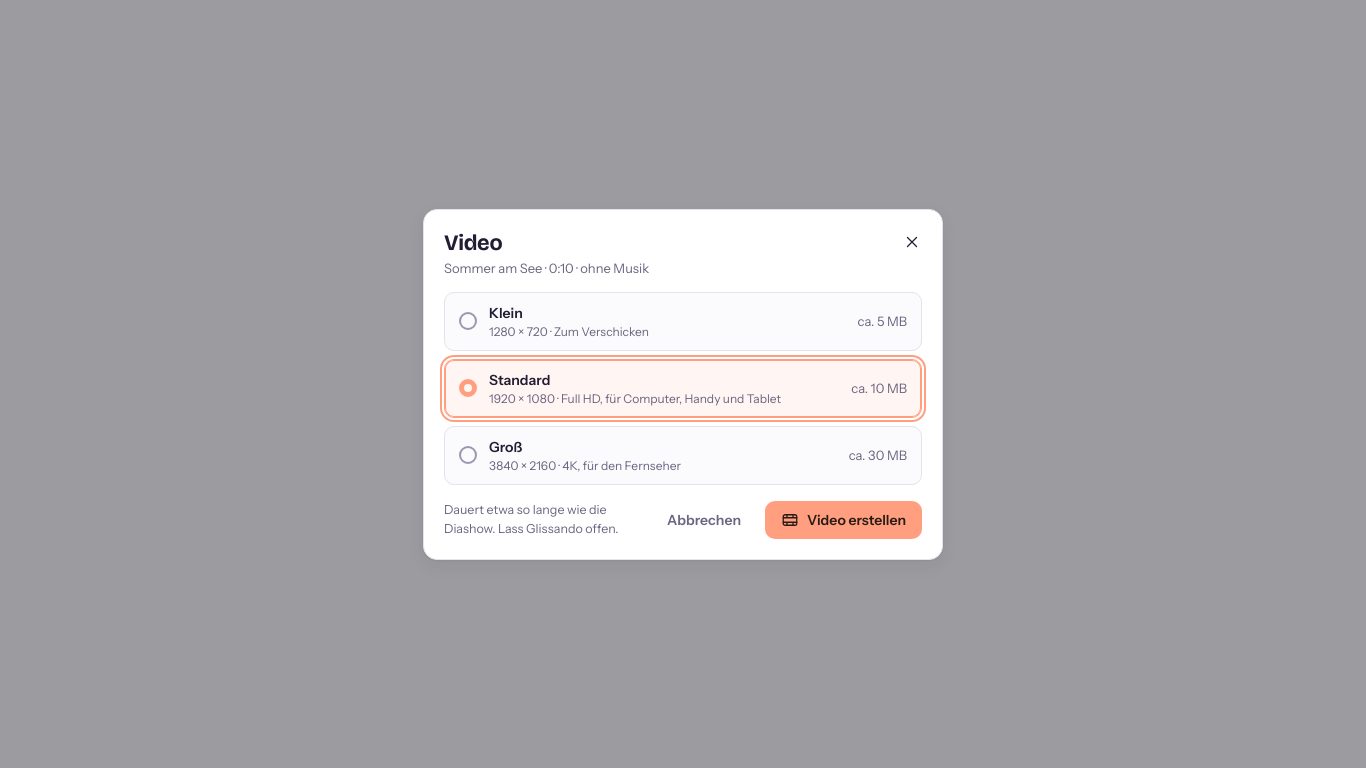
Scenario: the video sheet after a failure › says it in a sentence, keeps the raw error behind Show details, and Try again offers the sizes
Click the button "Video erstellen" at (844, 520), box [765, 500, 922, 538]
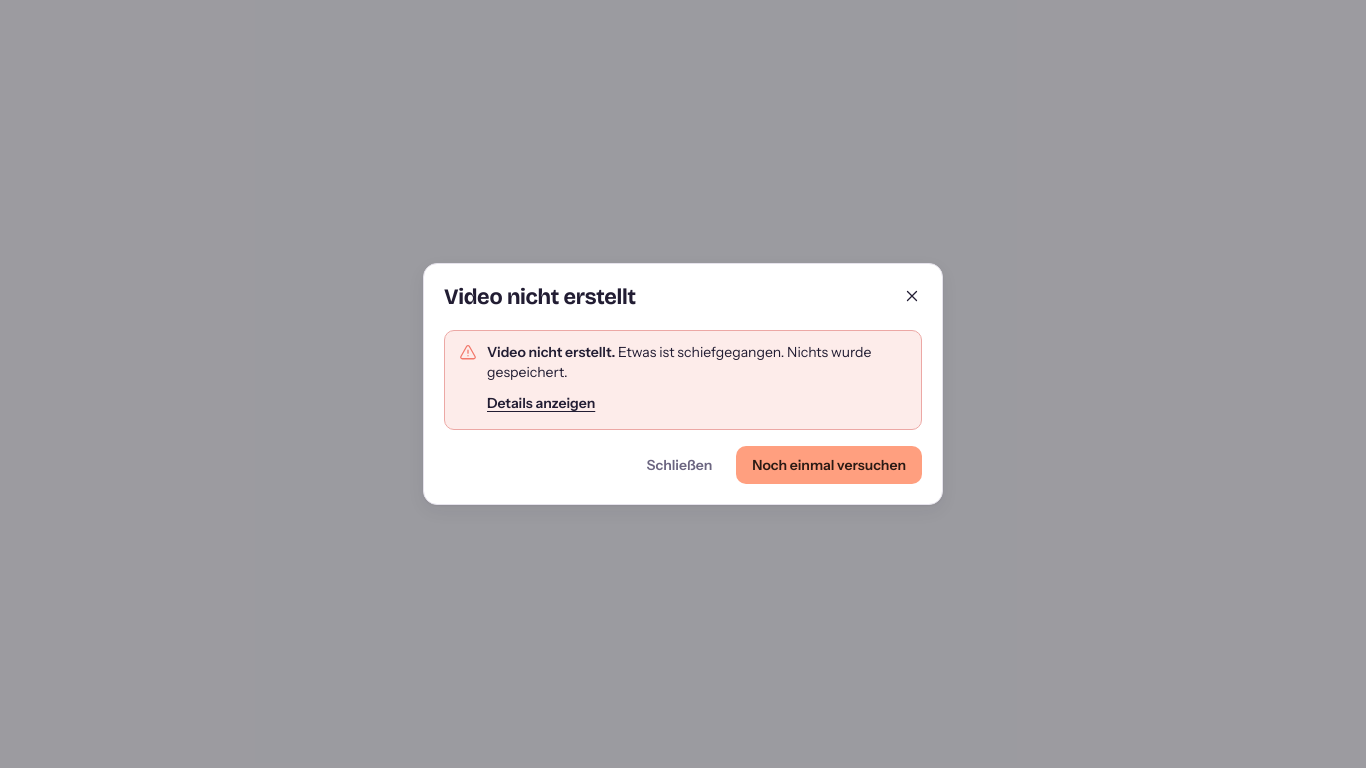
Expected: the text "encoder broke: code 0x80004005" is not shown
Expected: the text "Video nicht erstellt." is shown, [487, 343, 615, 361]
Click the button "Details anzeigen" at (541, 403), box [487, 388, 595, 418]
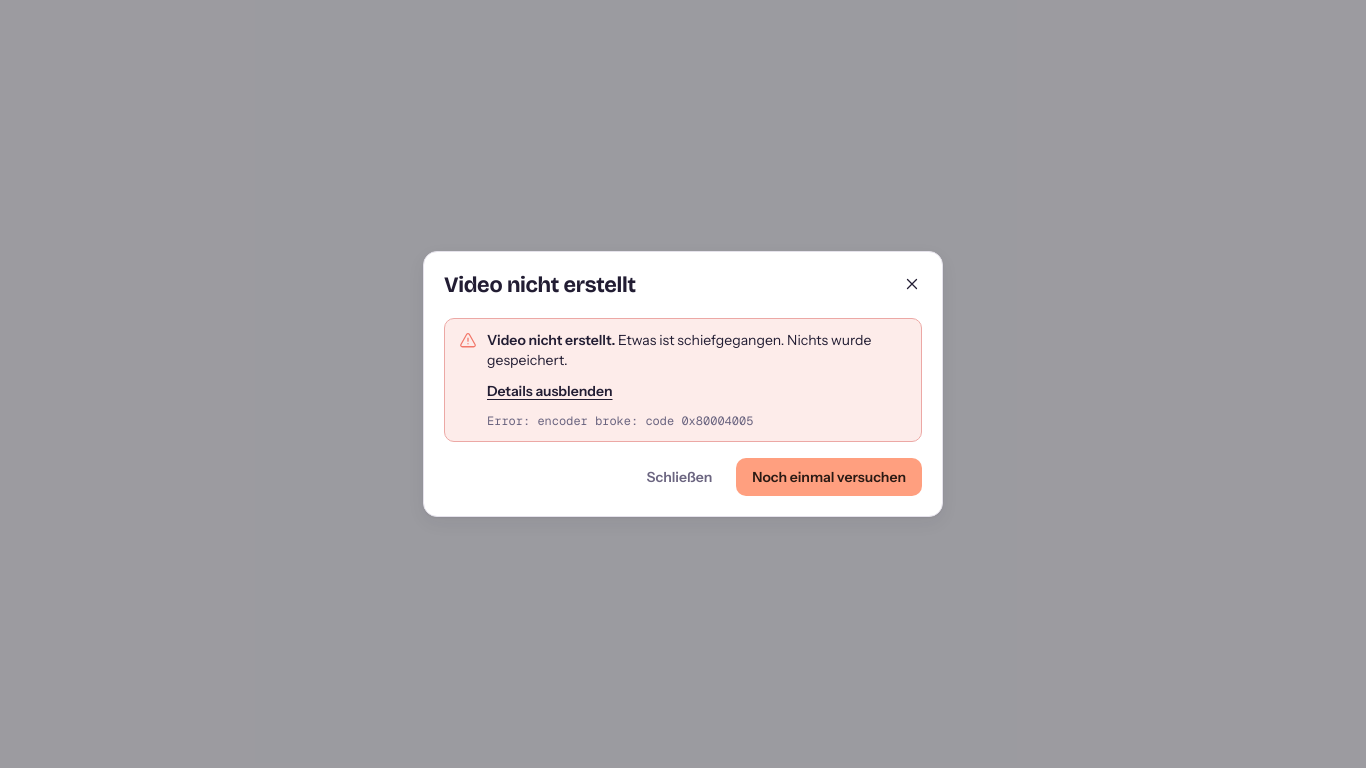
Expected: the button "Details ausblenden" is shown, [487, 377, 612, 407]
Click the button "Noch einmal versuchen" at (829, 477), box [736, 458, 922, 496]
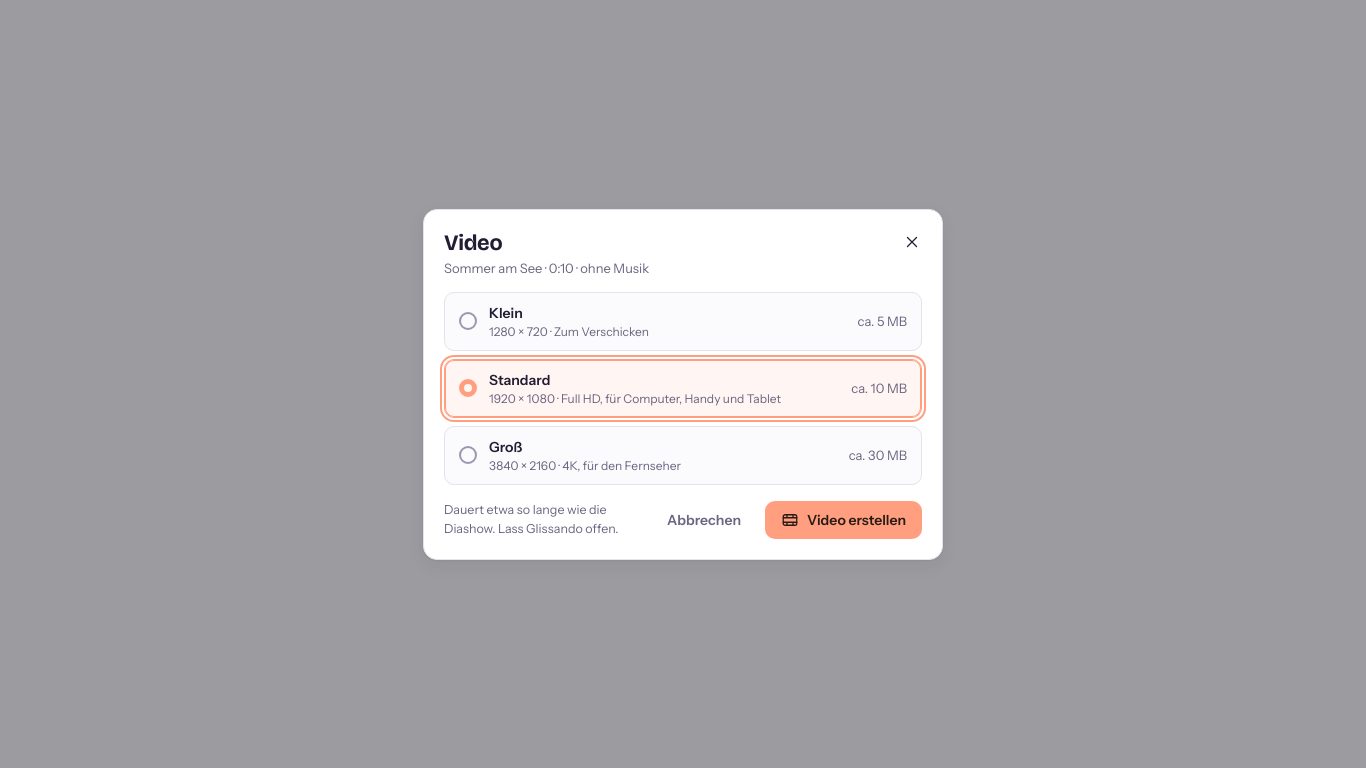
Expected: the text "encoder broke: code 0x80004005" is gone
